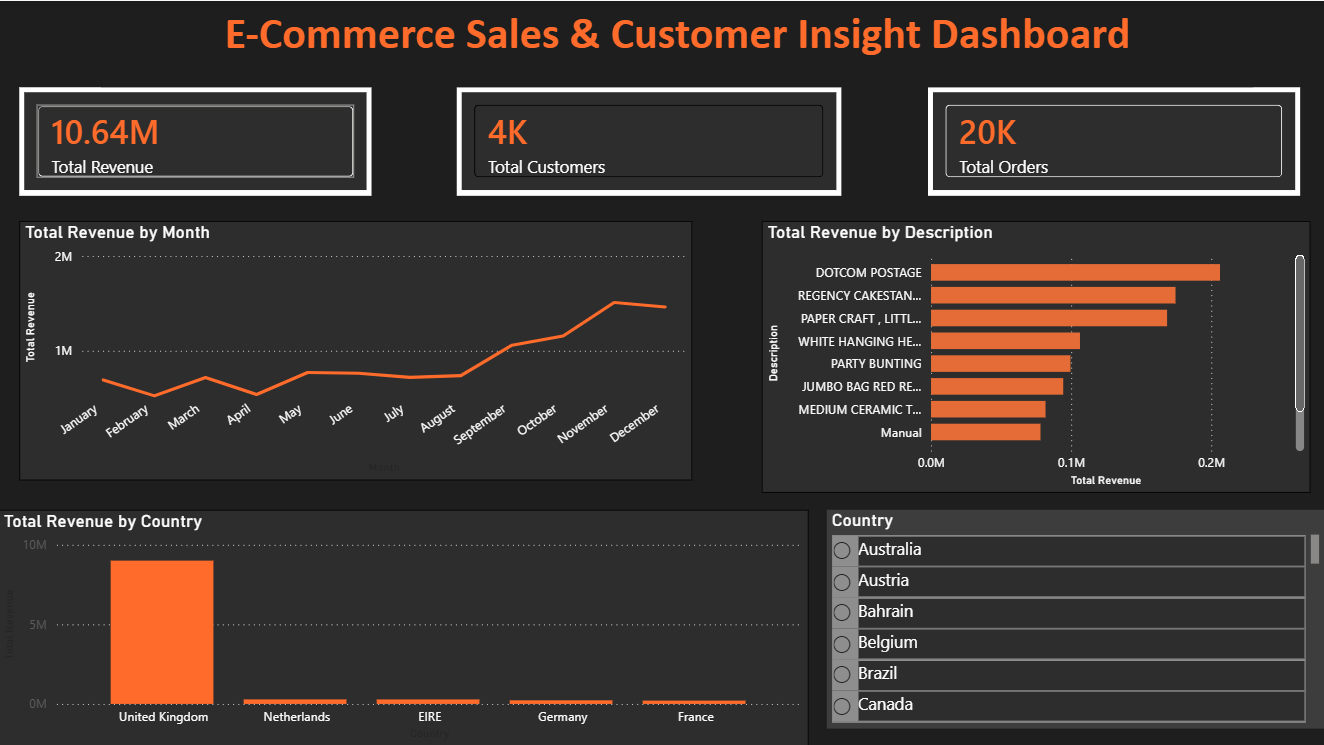

What the dashboard file says about the page in this screenshot:
{"tool":"powerbi","page":{"name":"Page 1","canvas":[1280,720],"ordinal":0},"visuals":[{"type":"cardVisual","fields":{"Data":["data.Total Revenue"]},"box":[20.2,83.4,340.2,104.9],"z":0},{"type":"cardVisual","fields":{"Data":["data.Total Customers"]},"box":[442.4,83.4,371.2,104.9],"z":1000},{"type":"cardVisual","fields":{"Data":["data.Total Orders"]},"box":[897,83.4,359.1,104.9],"z":2000},{"type":"lineChart","fields":{"Category":["data.InvoiceDate.Variation.Date Hierarchy.Month"],"Y":["data.Total Revenue"]},"box":[20.2,212.5,649.6,250.1],"z":3000},{"type":"clusteredBarChart","fields":{"Category":["data.Description"],"Y":["data.Total Revenue"]},"box":[737,212.5,529.9,262.2],"z":4000},{"type":"clusteredColumnChart","fields":{"Category":["data.Country"],"Y":["data.Total Revenue"]},"box":[0,490.9,782.7,228.6],"z":5000},{"type":"listSlicer","fields":{"Values":["data.Country"]},"box":[800.2,490.9,480.1,211.1],"z":6000},{"type":"textbox","box":[100,0,1111.4,82.9],"z":8000}]}

Visuals, with their boxes in screenshot pixels (x1, y1, x2, y2), scaled from the page's 1280x720 canvas onto the 1324x745 screenshot:
cardVisual - data.Total Revenue: l=21, t=86, r=373, b=195
cardVisual - data.Total Customers: l=458, t=86, r=842, b=195
cardVisual - data.Total Orders: l=928, t=86, r=1299, b=195
lineChart - data.InvoiceDate.Variation.Date Hierarchy.Month x data.Total Revenue: l=21, t=220, r=693, b=479
clusteredBarChart - data.Description x data.Total Revenue: l=762, t=220, r=1310, b=491
clusteredColumnChart - data.Country x data.Total Revenue: l=0, t=508, r=810, b=744
listSlicer - data.Country: l=828, t=508, r=1323, b=726
textbox: l=103, t=0, r=1253, b=86
